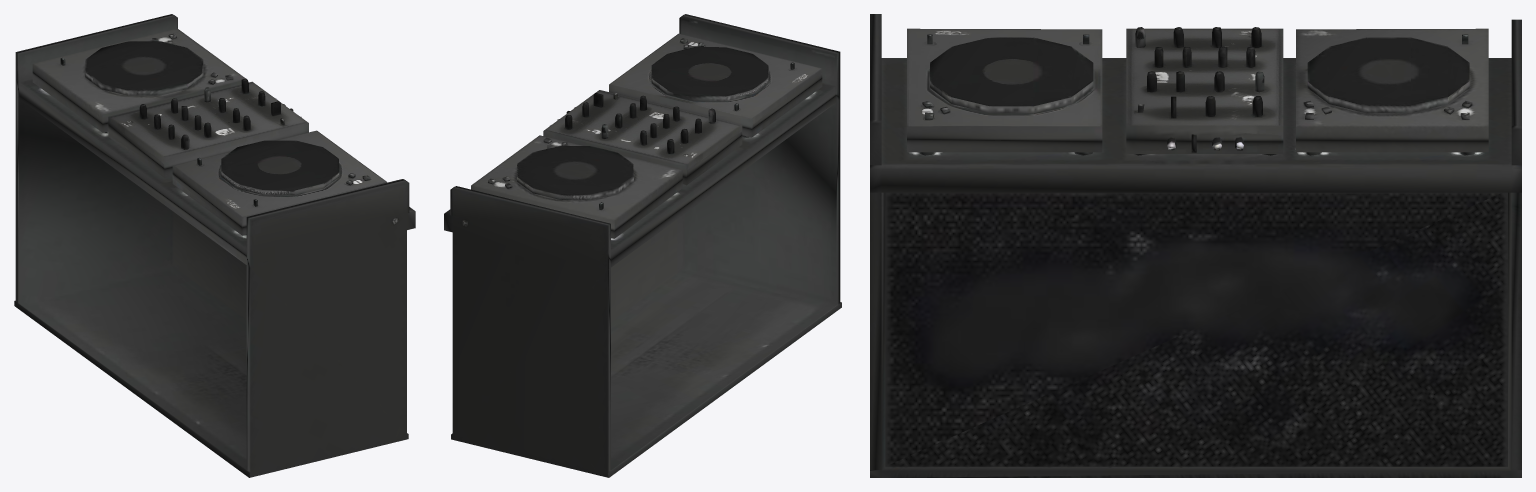
File: dj-booth.glb
3 renders of one model, left to right at view 1: azimuth 30°, elevation 25°; view 2: azimuth 150°, elevation 25°; view 3: azimuth 270°, elevation 25°, orthographic. The views are drawn at different scales.
Visible parts, largest first — view 1: tripo_node_4bec5aab-30e0-429f-971c-3751d8507da1; view 2: tripo_node_4bec5aab-30e0-429f-971c-3751d8507da1; view 3: tripo_node_4bec5aab-30e0-429f-971c-3751d8507da1.
Boxes of the visible parts, box(x1,y1,x2,y2) form: tripo_node_4bec5aab-30e0-429f-971c-3751d8507da1: box(14, 14, 415, 477); tripo_node_4bec5aab-30e0-429f-971c-3751d8507da1: box(444, 14, 841, 477); tripo_node_4bec5aab-30e0-429f-971c-3751d8507da1: box(870, 14, 1521, 477).
Bounding box in the file's own units: 0.4082 × 0.6152 × 0.998.
Materials: 1 (1 with a texture image).
